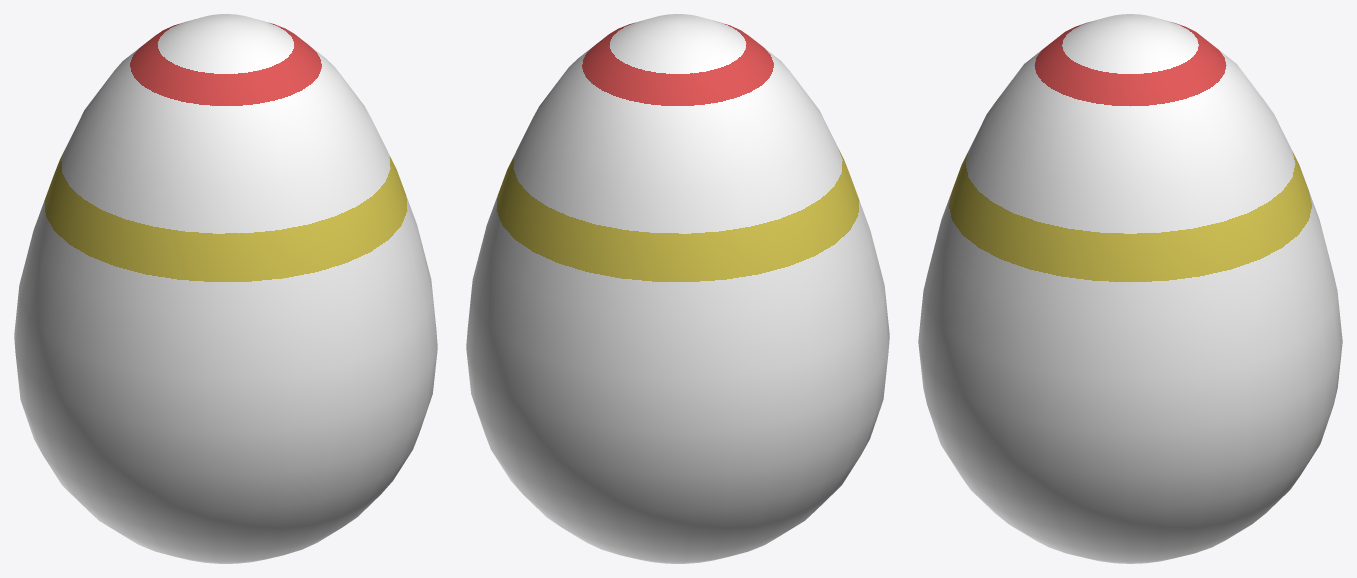
Rendered from egg.fbx.
The picture shows the model from 3 angles, left to right: view 1: azimuth 30°, elevation 25°; view 2: azimuth 150°, elevation 25°; view 3: azimuth 270°, elevation 25°; orthographic projection.
Visible parts, largest first — view 1: Sphere; view 2: Sphere; view 3: Sphere.
Boxes of the visible parts, x1,y1,x2,y2 form: Sphere: (14,14,437,563); Sphere: (466,14,889,563); Sphere: (918,14,1342,563).
Bounding box in the file's own units: 205 × 277 × 205.
